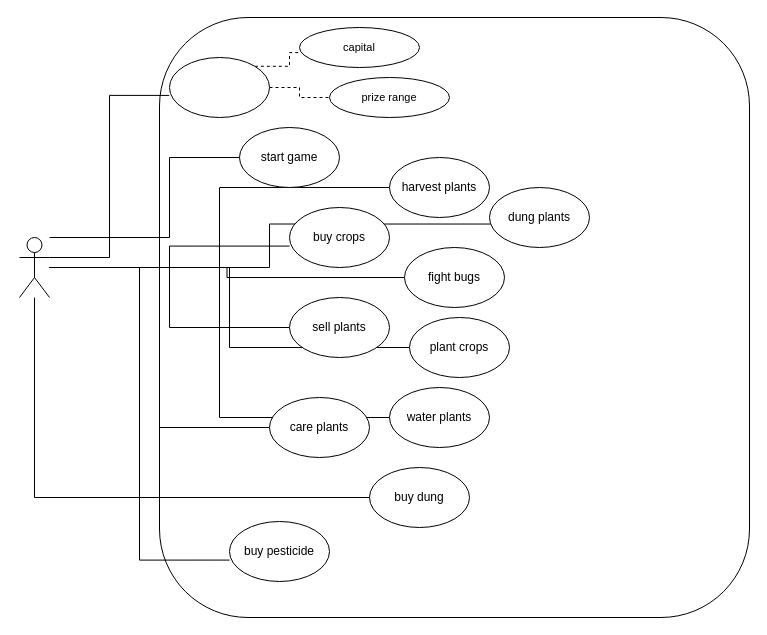
Some shapes in this 767 by 635 pixel diagram are drawn without their labels. Each missing label, with the centre of its shape:
Player: the point at 34,267
Setup: the point at 219,87
